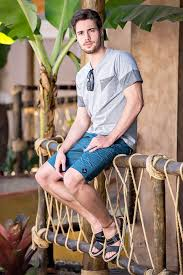T-Shirt_Regular: (70, 47, 151, 154)
